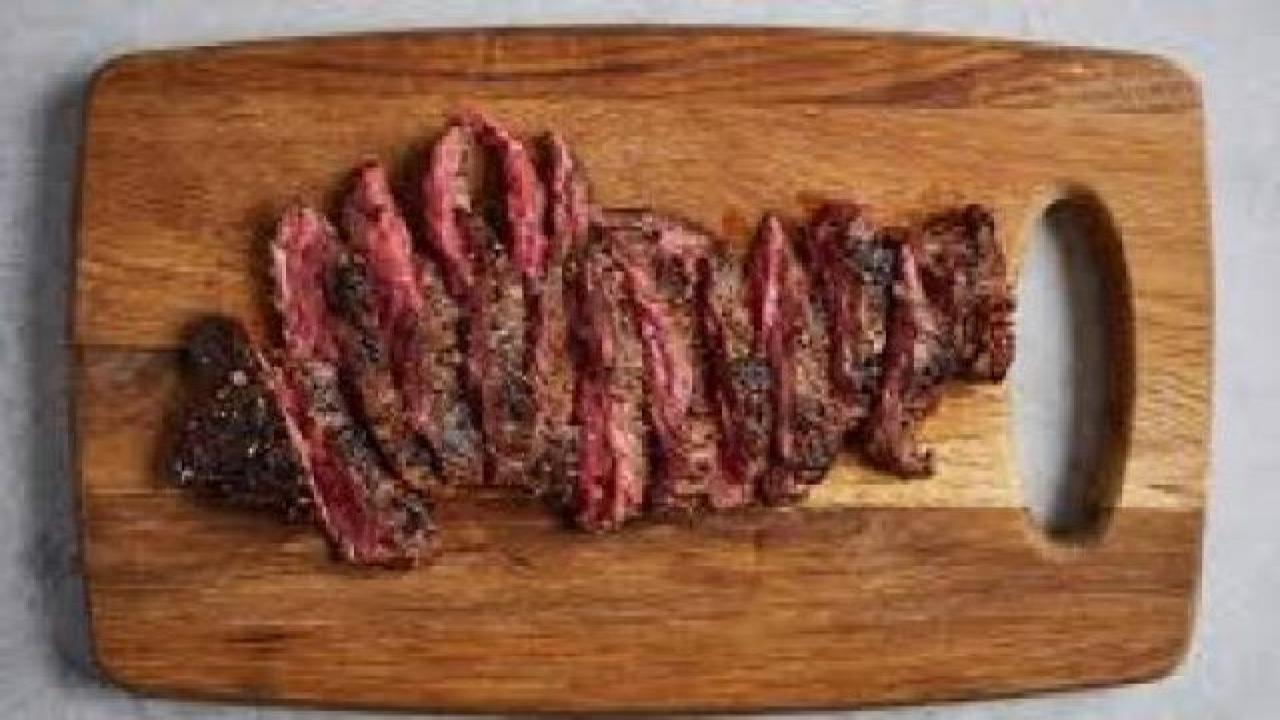Carne: (134, 138, 1052, 562)
